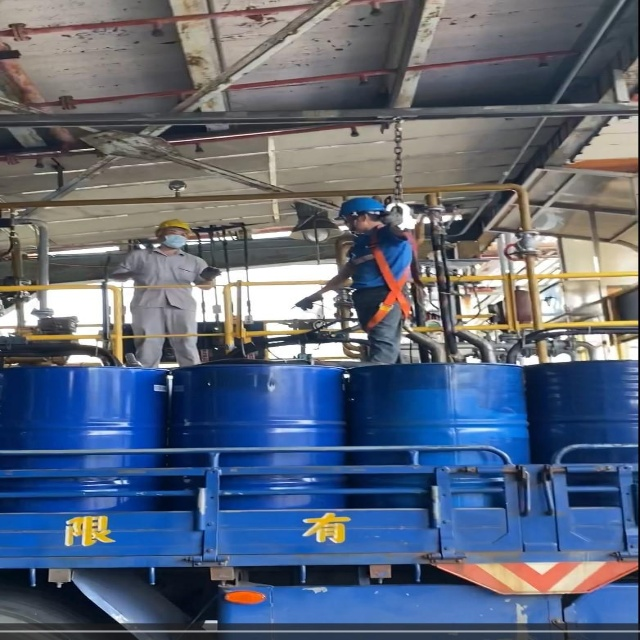Arnes_seguridad: (354, 232, 416, 334)
